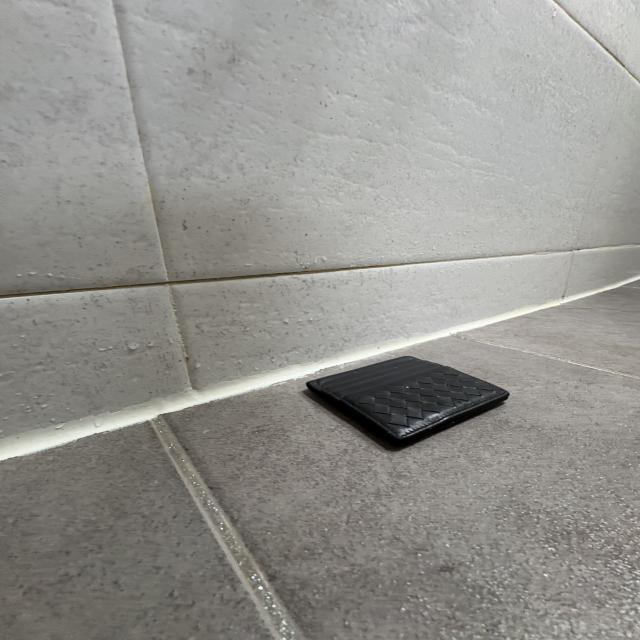wallet: (299, 354, 511, 452)
